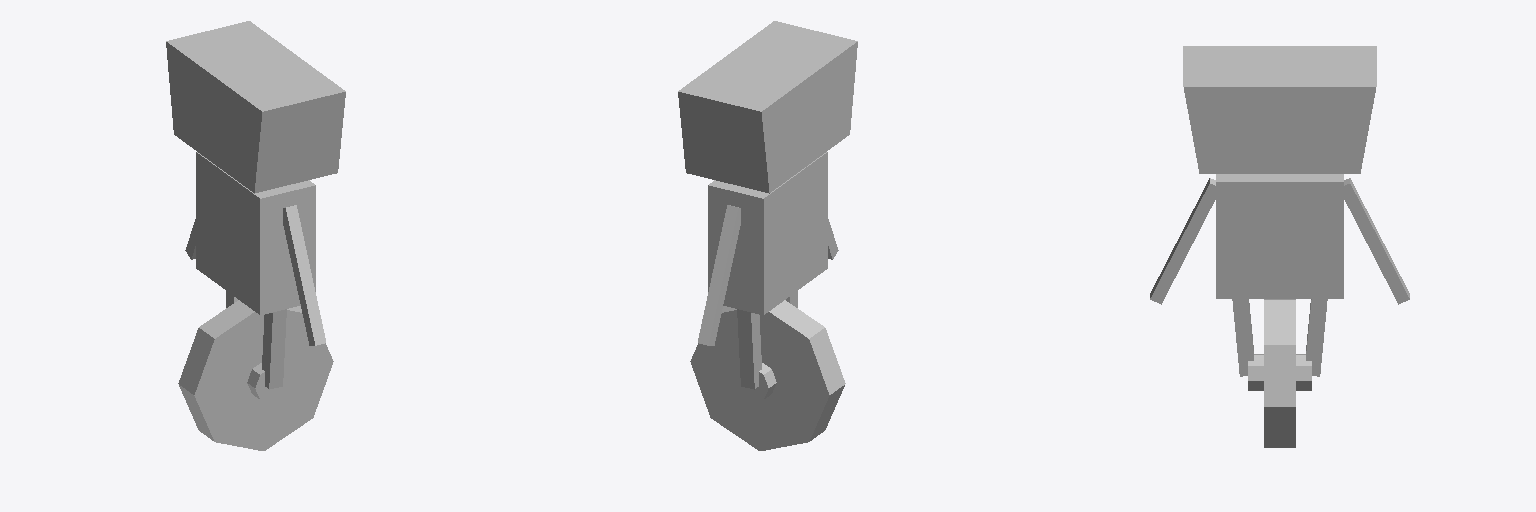
Rendered from player.obj.
The picture shows the model from 3 angles: view 1: azimuth 30°, elevation 25°; view 2: azimuth 150°, elevation 25°; view 3: azimuth 270°, elevation 25°; orthographic projection.
Parts seen in each view (by area): view 1: Cube.003, wheel, Cube.004; view 2: Cube.003, wheel, Cube.005; view 3: Cube.003, wheel, Cube.004, Cube.005.
Part boxes in pixels (bbox=[...]): Cube.003: bbox=[166, 21, 345, 389]; wheel: bbox=[178, 300, 333, 450]; Cube.004: bbox=[283, 205, 325, 345]; Cube.003: bbox=[678, 21, 857, 389]; wheel: bbox=[690, 300, 845, 450]; Cube.005: bbox=[698, 205, 740, 345]; Cube.003: bbox=[1183, 46, 1376, 376]; wheel: bbox=[1248, 299, 1311, 447]; Cube.004: bbox=[1150, 178, 1215, 304]; Cube.005: bbox=[1344, 178, 1409, 304].
Size of the model in its own units: 0.5 by 1.3 by 0.8082.